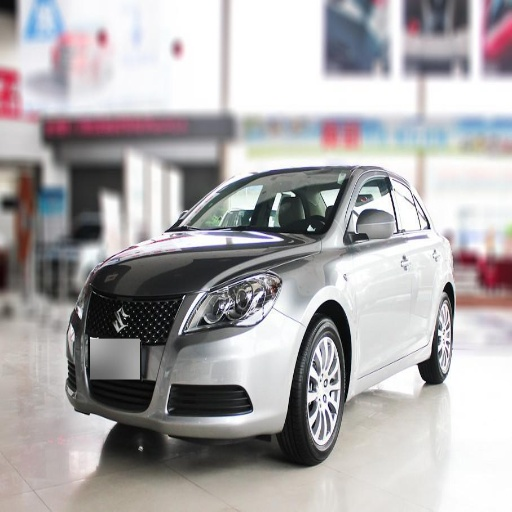front_bumper: (73, 290, 306, 436)
front_glass: (173, 171, 346, 236)
front_left_door: (344, 170, 412, 372)
